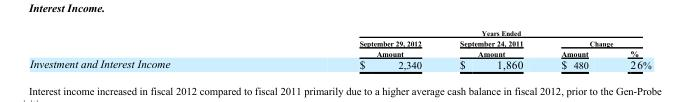table: (28, 28, 650, 70)
table column: (28, 28, 264, 70), (264, 28, 440, 70), (440, 28, 541, 70), (541, 28, 608, 70), (608, 28, 650, 70)
table column header: (28, 28, 650, 57)
table row: (28, 57, 650, 70), (28, 37, 650, 47), (28, 47, 650, 57), (28, 28, 650, 37)
table spanning cell: (264, 37, 440, 57), (264, 28, 650, 37), (440, 37, 541, 57), (541, 37, 650, 47)
